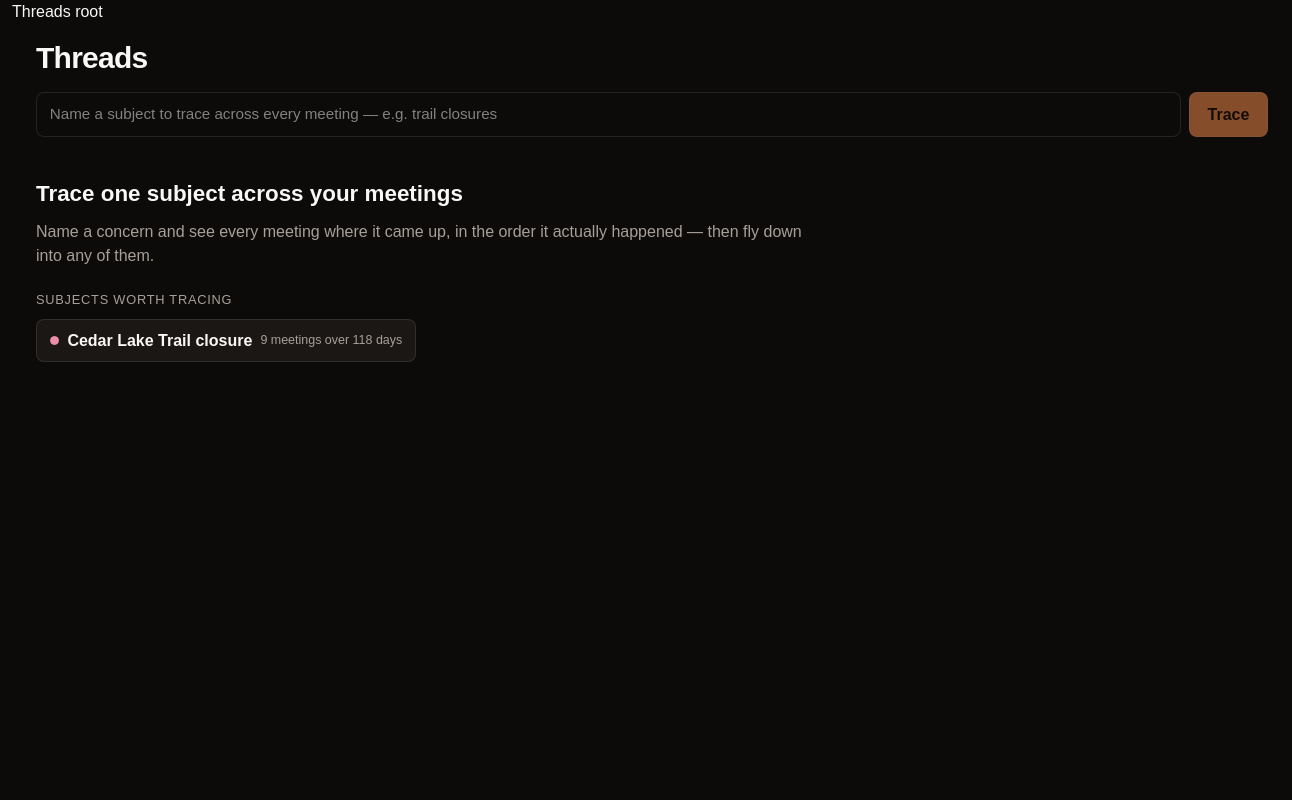
Test: the timeline › draws one stop per meeting, in time order
Click the button "Cedar Lake Trail closure 9 meetings over 118 days" at (226, 341), box [36,319,416,362]
(page scrolled)
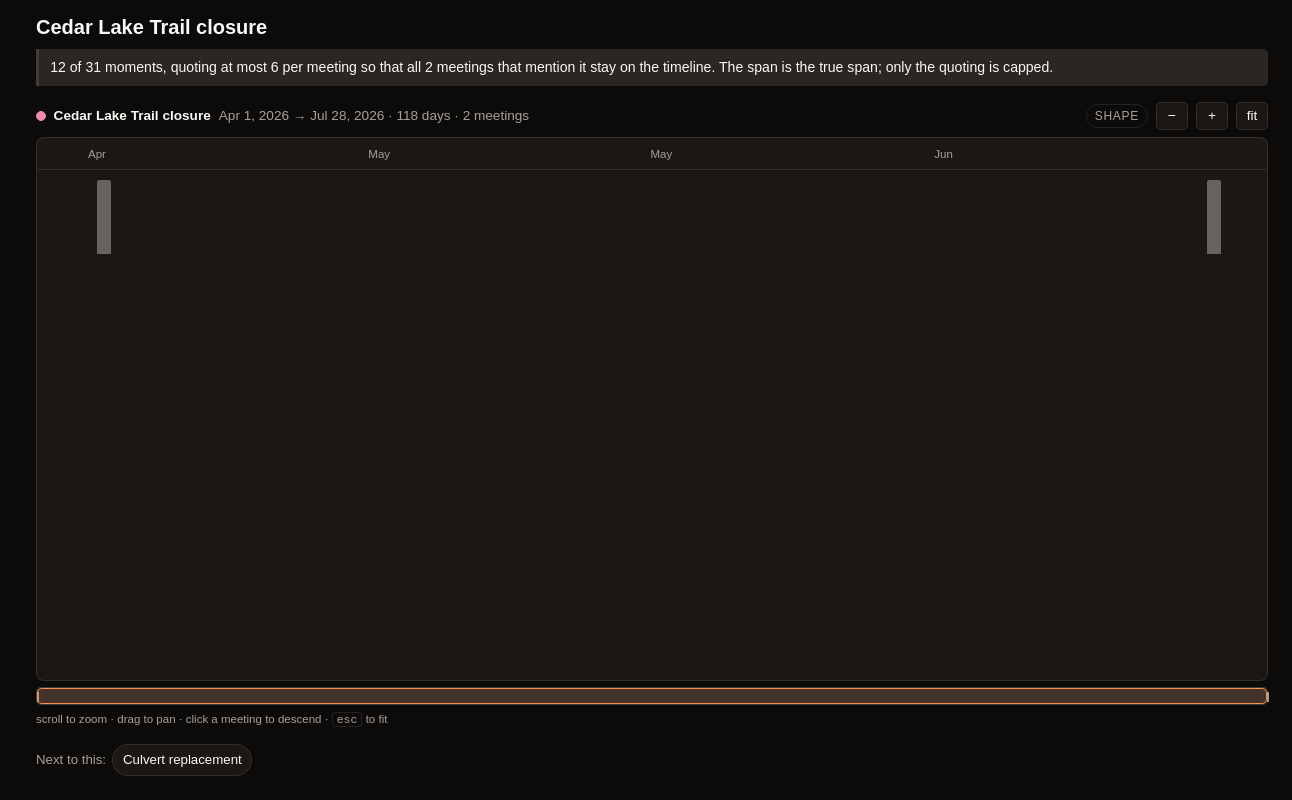
Expected: the element named "Timeline for Cedar Lake Trail closure" is shown
Expected: the number of buttons with class "mm-trace-bar-item" is 2, [97,180,111,254]; [1207,180,1221,254]
